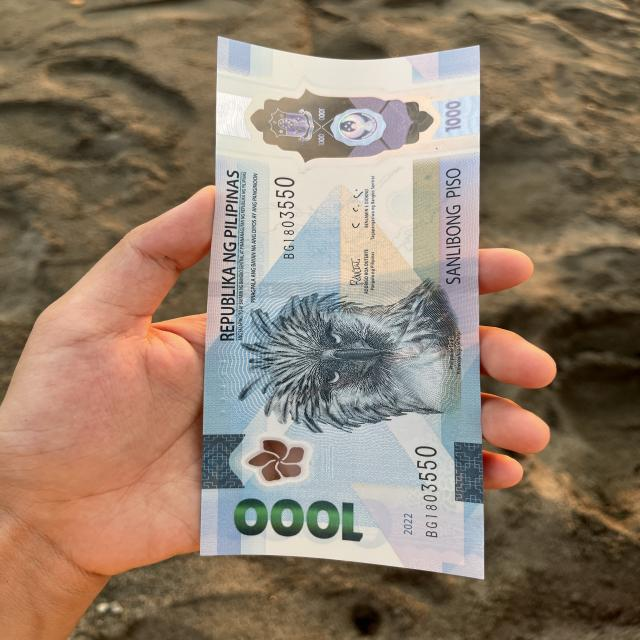clear_window: (206, 70, 478, 163)
eagle: (225, 284, 456, 430)
sampaguita: (239, 434, 319, 492)
